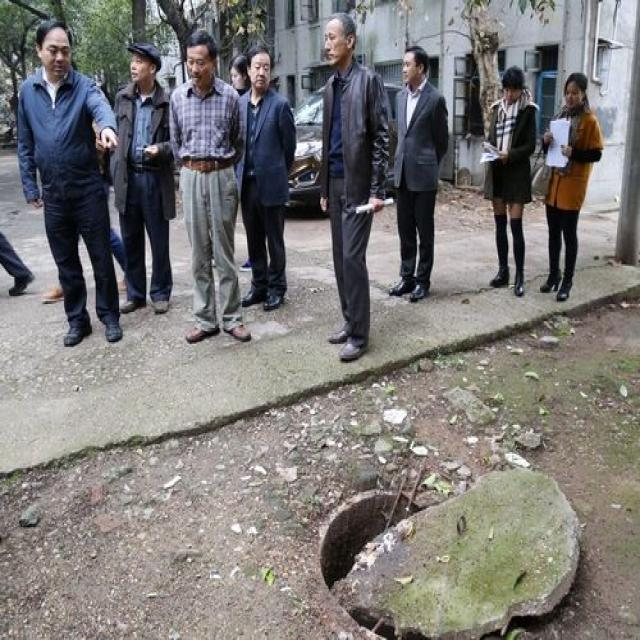manhole-cover: (300, 466, 570, 626)
